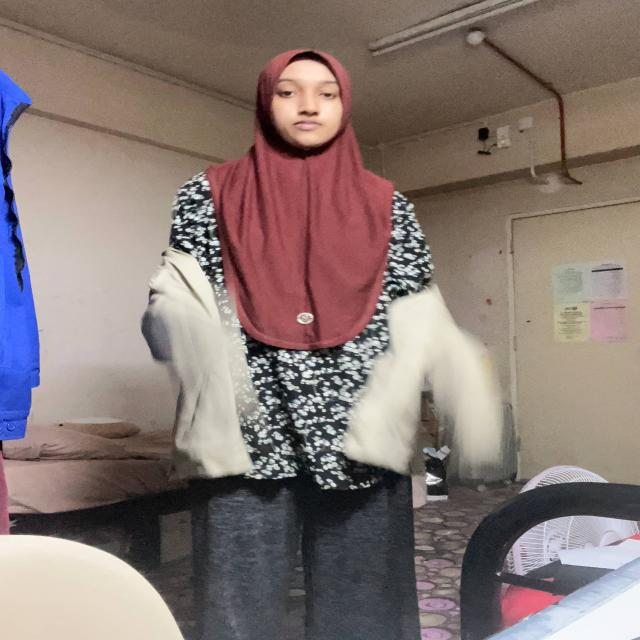person_without_labcoat: (141, 50, 502, 640), (0, 257, 275, 453)
